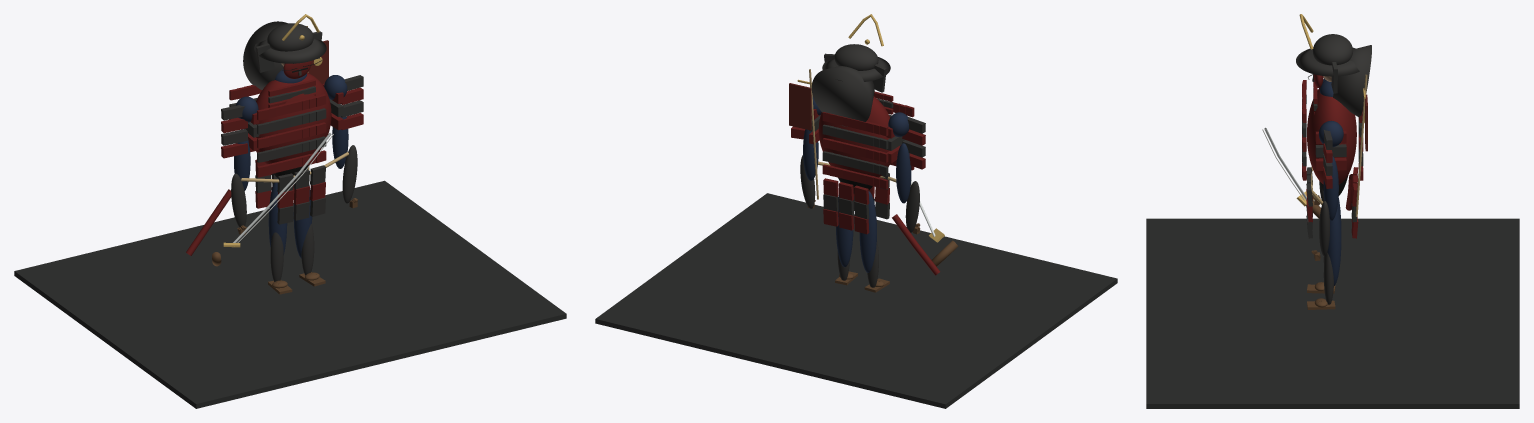
Rendered from samurai_character.glb.
3 views of the same model, side by side, from view 1: azimuth 30°, elevation 25°; view 2: azimuth 150°, elevation 25°; view 3: azimuth 270°, elevation 25° (orthographic). The views are drawn at different scales.
Visible parts, largest first — view 1: matte charcoal inspection plinth, rounded do cuirass silhouette, rear shikoro neck guard flare, segmented kabuto helmet bowl, wide kabuto brim, right kote forearm guard, left kote forearm guard, left hakama trouser leg, left shin greave, lacquered saya scabbard at left hip, right armored upper arm, right shin greave; view 2: matte charcoal inspection plinth, rear shikoro neck guard flare, rounded do cuirass silhouette, cloth sashimono banner panel, segmented kabuto helmet bowl, left hakama trouser leg, left armored upper arm, right hakama trouser leg, right armored upper arm, left kote forearm guard, lacquered saya scabbard at left hip; view 3: matte charcoal inspection plinth, rounded do cuirass silhouette, rear shikoro neck guard flare, segmented kabuto helmet bowl, wide kabuto brim, right hakama trouser leg, right armored upper arm, right kote forearm guard, right shin greave, right shoulder undercloth, bamboo sashimono back pole.
Part boxes in pixels (box(x1,y1,x2,y2)): matte charcoal inspection plinth: box(14, 180, 566, 408); rounded do cuirass silhouette: box(256, 73, 331, 164); rear shikoro neck guard flare: box(243, 21, 287, 89); segmented kabuto helmet bowl: box(267, 23, 313, 51); wide kabuto brim: box(254, 38, 326, 63); right kote forearm guard: box(342, 145, 357, 203); left kote forearm guard: box(231, 173, 246, 227); left hakama trouser leg: box(268, 178, 287, 254); left shin greave: box(270, 232, 283, 281); lacquered saya scabbard at left hip: box(186, 189, 231, 255); right armored upper arm: box(332, 116, 348, 168); right shin greave: box(301, 223, 314, 275); matte charcoal inspection plinth: box(595, 193, 1117, 408); rear shikoro neck guard flare: box(811, 66, 874, 126); rounded do cuirass silhouette: box(818, 96, 890, 177); cloth sashimono banner panel: box(789, 83, 811, 130); segmented kabuto helmet bowl: box(834, 44, 878, 70); left hakama trouser leg: box(859, 191, 876, 272); left armored upper arm: box(896, 143, 911, 203); right hakama trouser leg: box(836, 194, 853, 267); right armored upper arm: box(803, 129, 818, 180); left kote forearm guard: box(905, 181, 919, 232); lacquered saya scabbard at left hip: box(892, 214, 940, 275); matte charcoal inspection plinth: box(1146, 218, 1519, 408); rounded do cuirass silhouette: box(1307, 88, 1356, 184); rear shikoro neck guard flare: box(1333, 45, 1371, 117); segmented kabuto helmet bowl: box(1313, 34, 1352, 65); wide kabuto brim: box(1296, 47, 1359, 76); right hakama trouser leg: box(1327, 206, 1341, 285); right armored upper arm: box(1323, 156, 1338, 220); right kote forearm guard: box(1319, 201, 1329, 256); right shin greave: box(1323, 252, 1333, 304); right shoulder undercloth: box(1318, 120, 1343, 147); bamboo sashimono back pole: box(1355, 74, 1367, 216).
Size of the model in its own units: 4 by 3.04 by 3.4.
